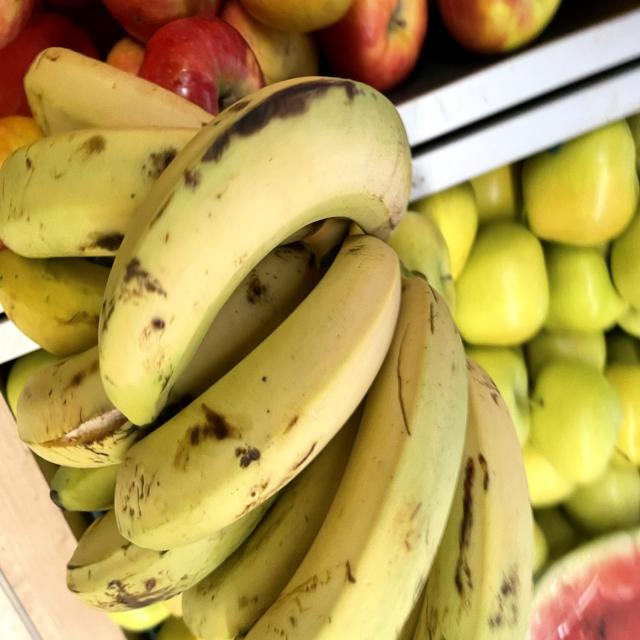banana: (112, 220, 419, 552)
